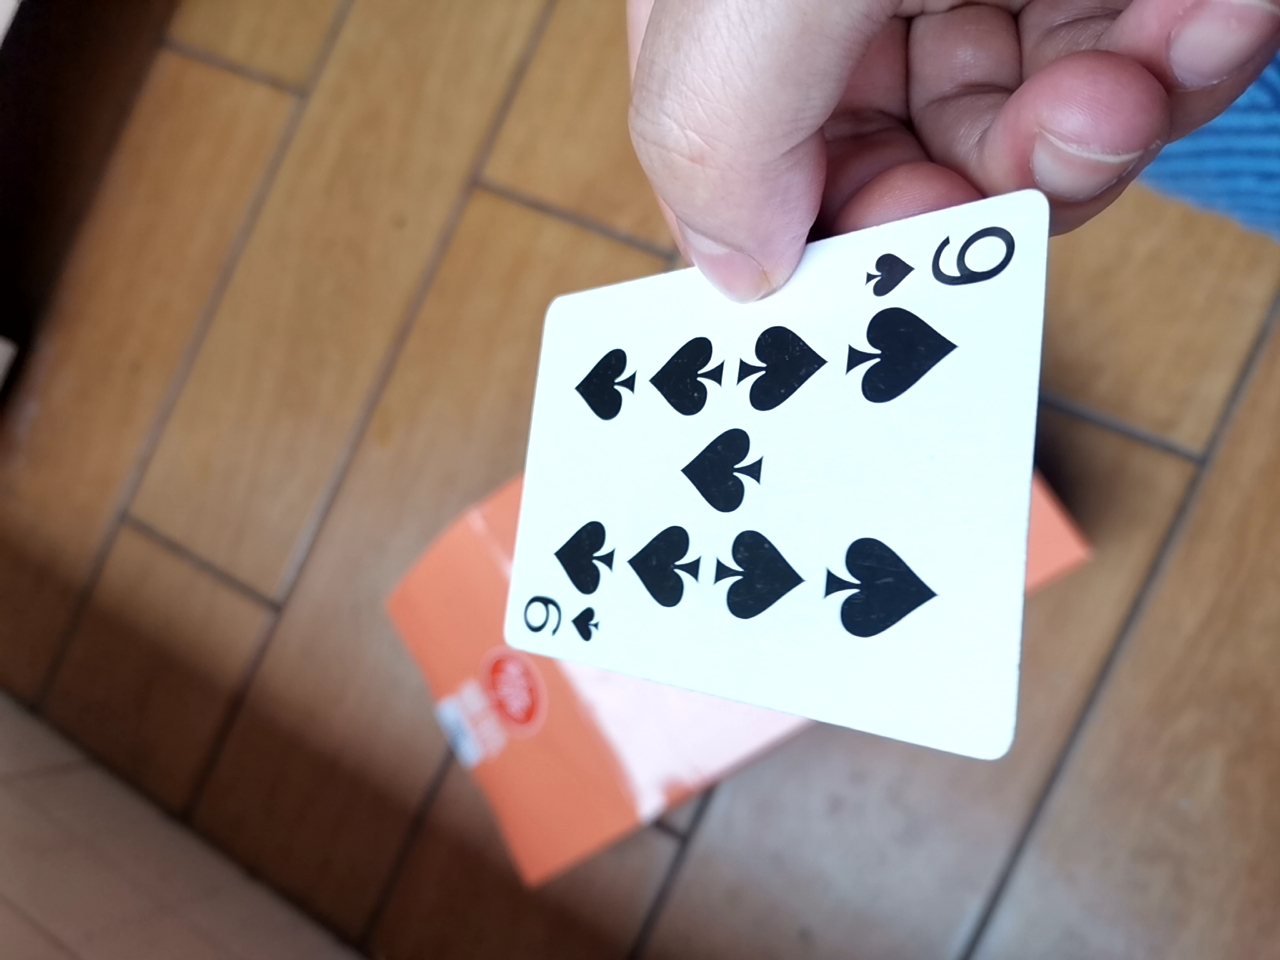ht 9: (500, 197, 1049, 806)
